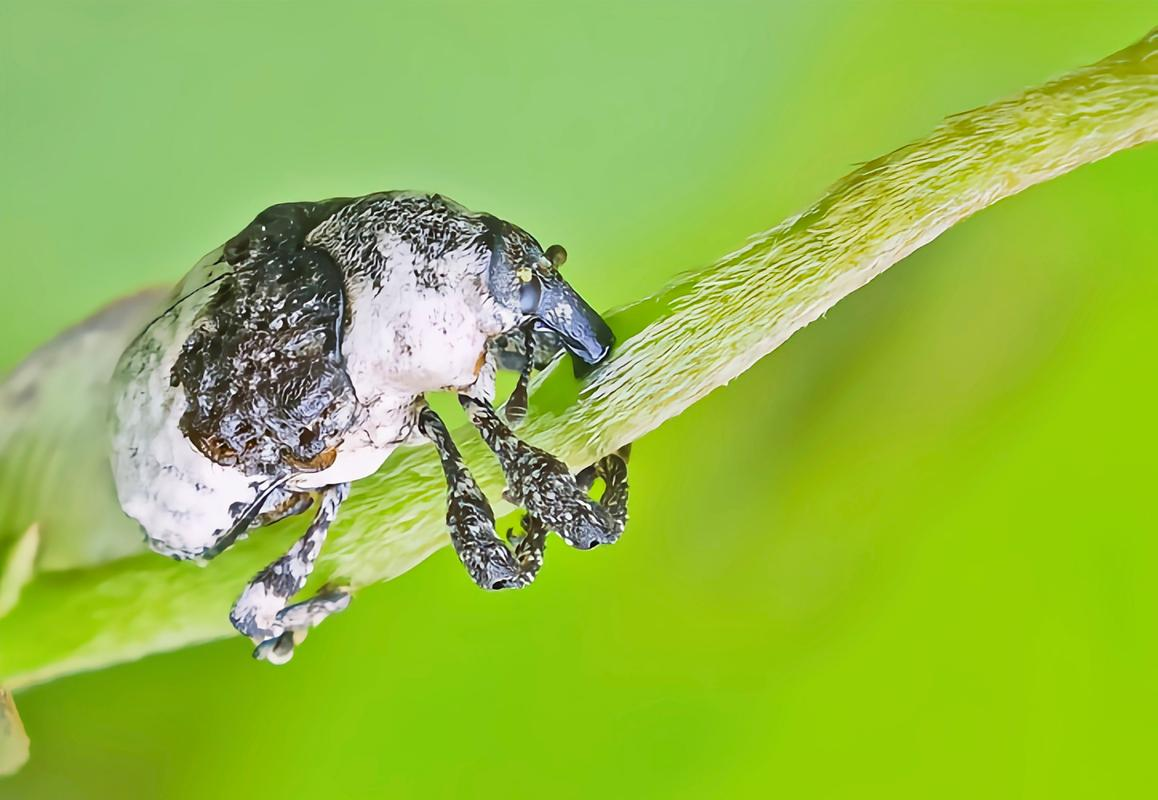Curculionidae: (102, 189, 630, 667)
